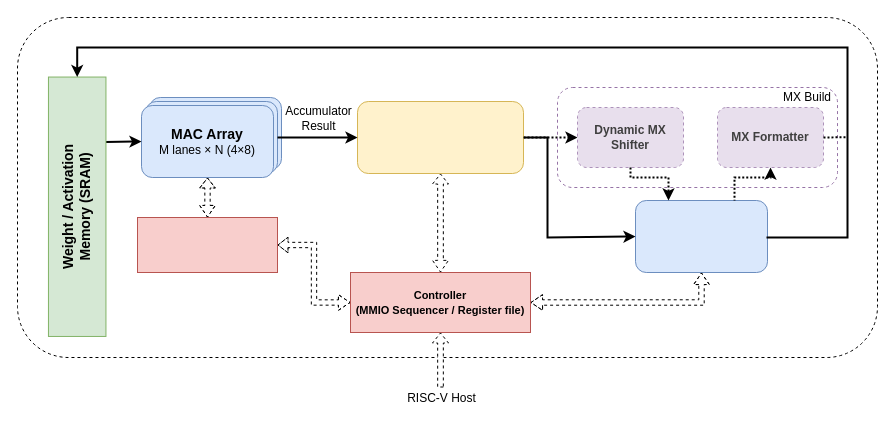
Some shapes in this 895 by 422 pixel diagram are drawn without their labels. Each missing label, with the centre of its shape:
"MatMul Controller" belongs at [207,244].
"Requantization Unit Per-element (INT8) / Block exponent (MX)" belongs at [440,137].
"TR Nonlinear VPU" belongs at [701,236].
